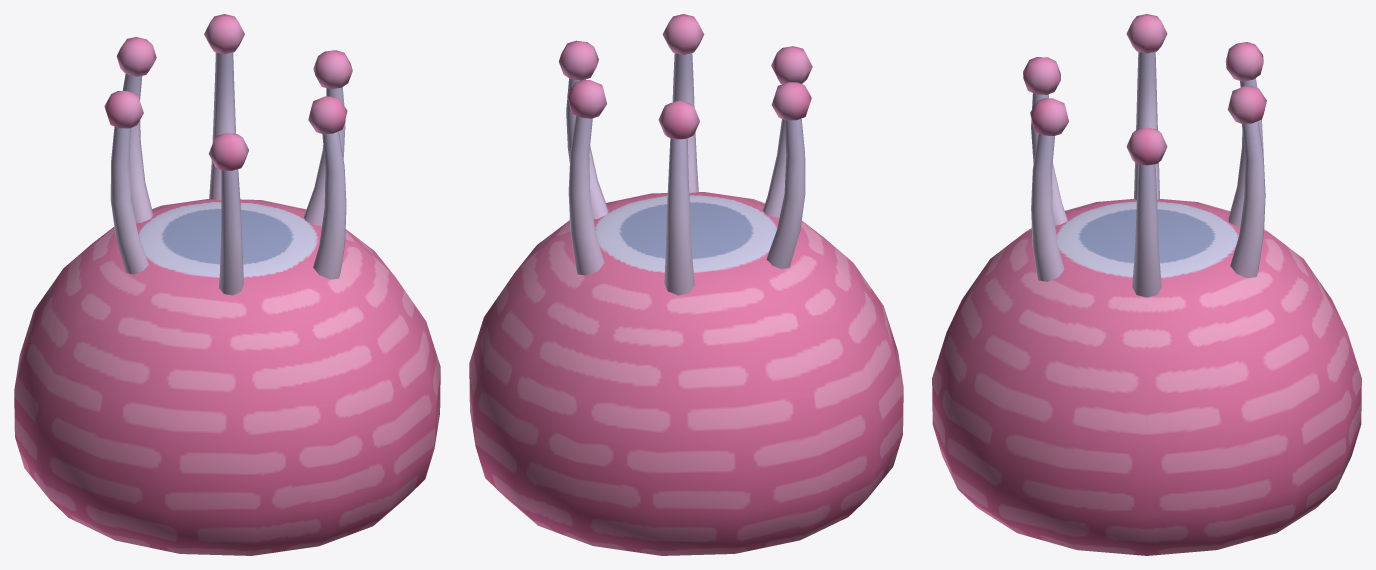
3 views of the same model, side by side, from view 1: azimuth 30°, elevation 25°; view 2: azimuth 150°, elevation 25°; view 3: azimuth 270°, elevation 25° (orthographic).
Visible parts, largest first — view 1: wk_s02_63; view 2: wk_s02_63; view 3: wk_s02_63.
Part boxes in pixels (x1,y1,x2,y2): wk_s02_63: (14,14,440,555); wk_s02_63: (469,14,903,555); wk_s02_63: (932,14,1361,555).
Bounding box in the file's own units: 0.6412 × 0.6412 × 0.6824.
1 material, 1 textured.
